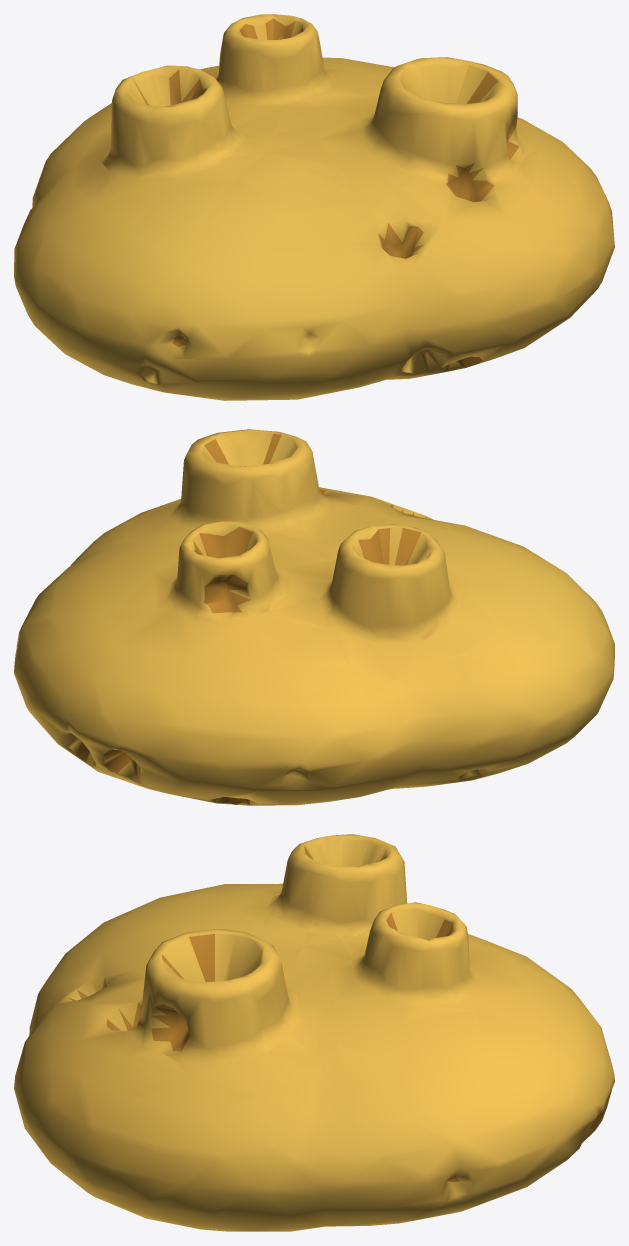
Rendered from shore_sea_sponge_lod1.glb.
The picture shows the model from 3 angles, top to bottom: view 1: azimuth 30°, elevation 25°; view 2: azimuth 150°, elevation 25°; view 3: azimuth 270°, elevation 25°; orthographic projection. The views are drawn at different scales.
Parts seen in each view (by area): view 1: shore_sea_sponge.001; view 2: shore_sea_sponge.001; view 3: shore_sea_sponge.001.
Part boxes in pixels (x1=…): shore_sea_sponge.001: x1=14, y1=14, x2=614, y2=400; shore_sea_sponge.001: x1=14, y1=429, x2=614, y2=805; shore_sea_sponge.001: x1=14, y1=834, x2=614, y2=1231.
Size of the model in its own units: 4.56 by 1.84 by 4.36.
